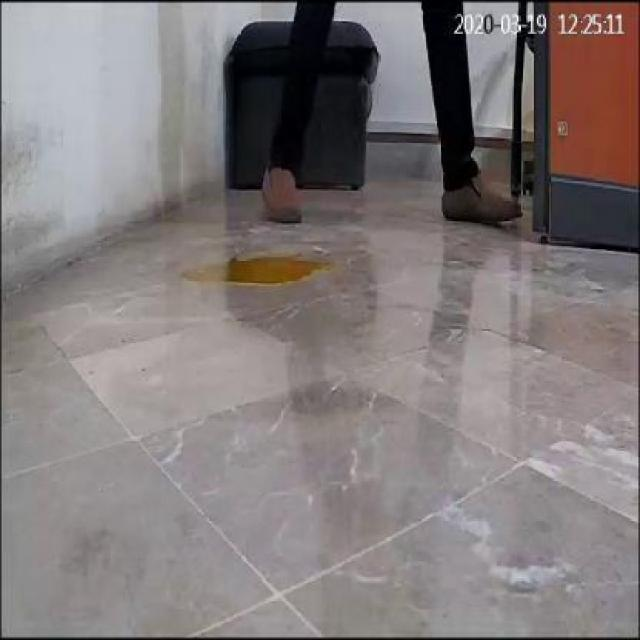spill: (172, 248, 336, 294)
